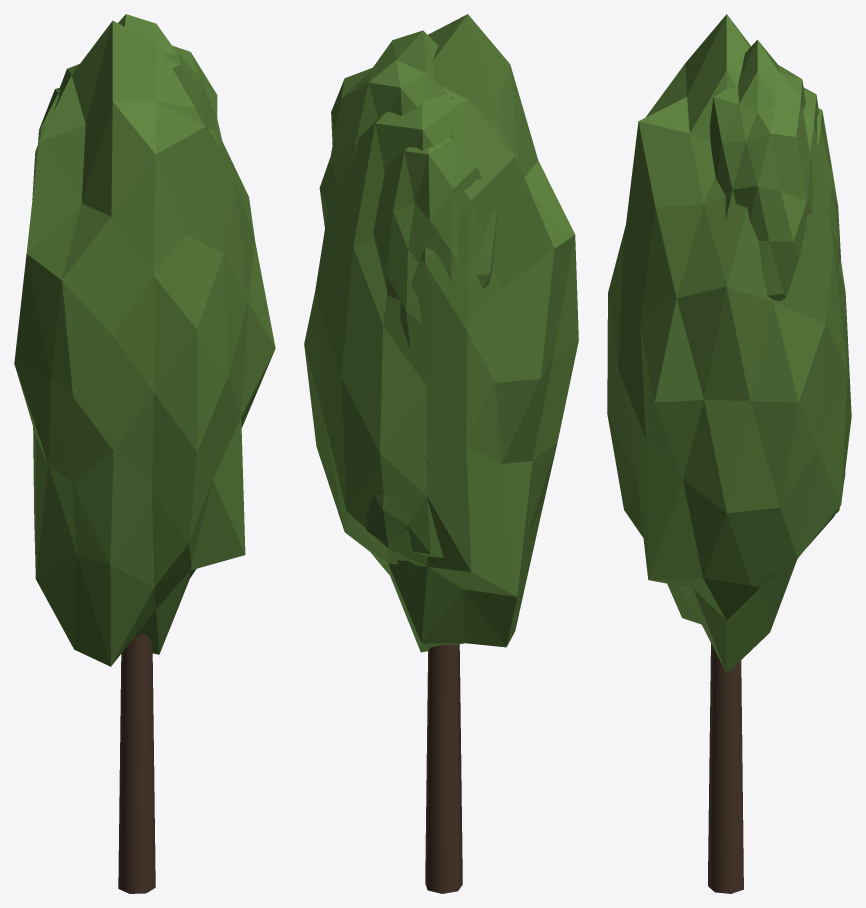
File: tree-poplar-0.obj
The picture shows the model from 3 angles, left to right: view 1: azimuth 30°, elevation 25°; view 2: azimuth 150°, elevation 25°; view 3: azimuth 270°, elevation 25°; orthographic projection.
Parts seen in each view (by area): view 1: part1; view 2: part1; view 3: part1.
Boxes of the visible parts, x1,y1,x2,y2 form: part1: (14, 14, 275, 893); part1: (304, 14, 578, 893); part1: (607, 14, 851, 893).
Size of the model in its own units: 2.67 by 10.01 by 2.58.
